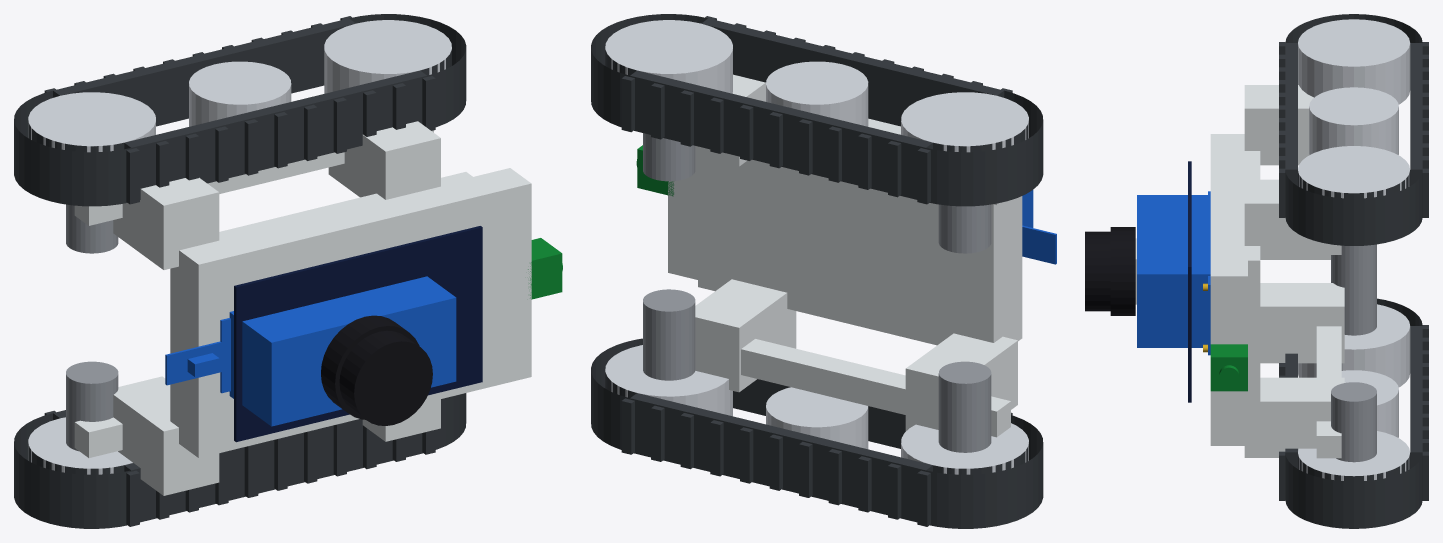
Rendered from tracked_lunar_rover.obj.
3 views of the same model, side by side, from view 1: azimuth 30°, elevation 25°; view 2: azimuth 150°, elevation 25°; view 3: azimuth 270°, elevation 25° (orthographic). The views are drawn at different scales.
Parts seen in each view (by area): view 1: ChassisTruss, TreadTracks, Sprockets, BatteryPack, SolarPanels, YDLIDAR, DCMotors, CameraModule; view 2: TreadTracks, ChassisTruss, Sprockets, DCMotors, BatteryPack, CameraModule; view 3: ChassisTruss, TreadTracks, Sprockets, BatteryPack, DCMotors, YDLIDAR, CameraModule, SolarPanels.
Boxes of the visible parts, bbox=[...] form: ChassisTruss: bbox=[74, 121, 531, 495]; TreadTracks: bbox=[14, 14, 466, 528]; Sprockets: bbox=[28, 20, 451, 474]; BatteryPack: bbox=[165, 276, 456, 426]; SolarPanels: bbox=[234, 226, 482, 442]; YDLIDAR: bbox=[321, 315, 432, 425]; DCMotors: bbox=[66, 204, 118, 451]; CameraModule: bbox=[528, 238, 562, 299]; TreadTracks: bbox=[591, 14, 1043, 528]; ChassisTruss: bbox=[668, 74, 1022, 437]; Sprockets: bbox=[605, 20, 1028, 474]; DCMotors: bbox=[643, 133, 991, 452]; BatteryPack: bbox=[1022, 190, 1056, 264]; CameraModule: bbox=[636, 145, 673, 196]; ChassisTruss: bbox=[1210, 85, 1344, 458]; TreadTracks: bbox=[1279, 14, 1428, 528]; Sprockets: bbox=[1298, 19, 1410, 480]; BatteryPack: bbox=[1137, 191, 1210, 355]; DCMotors: bbox=[1331, 244, 1376, 462]; YDLIDAR: bbox=[1085, 227, 1135, 315]; CameraModule: bbox=[1210, 344, 1247, 391]; SolarPanels: bbox=[1188, 161, 1191, 402].
Bounding box in the file's own units: 0.3745 × 0.292 × 0.2755.
